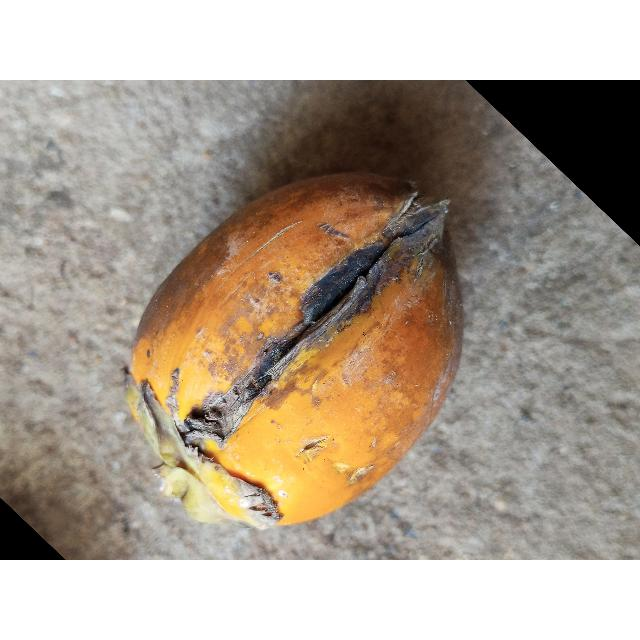damaged: (124, 172, 465, 532)
